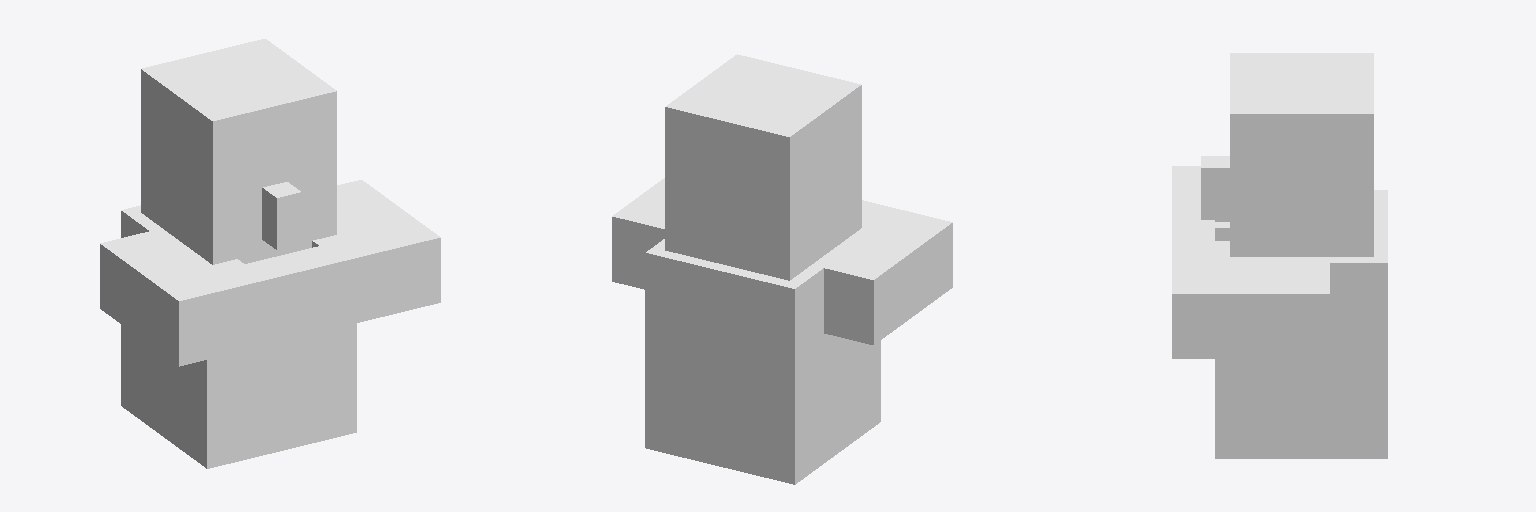
The model's file is Villager-1.obj.
The picture shows the model from 3 angles: view 1: azimuth 30°, elevation 25°; view 2: azimuth 150°, elevation 25°; view 3: azimuth 270°, elevation 25°; orthographic projection.
Visible parts, largest first — view 1: object 1; view 2: object 1; view 3: object 1.
Boxes of the visible parts, box(x1,y1,x2,y2) form: object 1: box(100, 39, 440, 468); object 1: box(612, 54, 952, 484); object 1: box(1172, 53, 1387, 458).
Size of the model in its own units: 2.1 by 2.6 by 1.5.